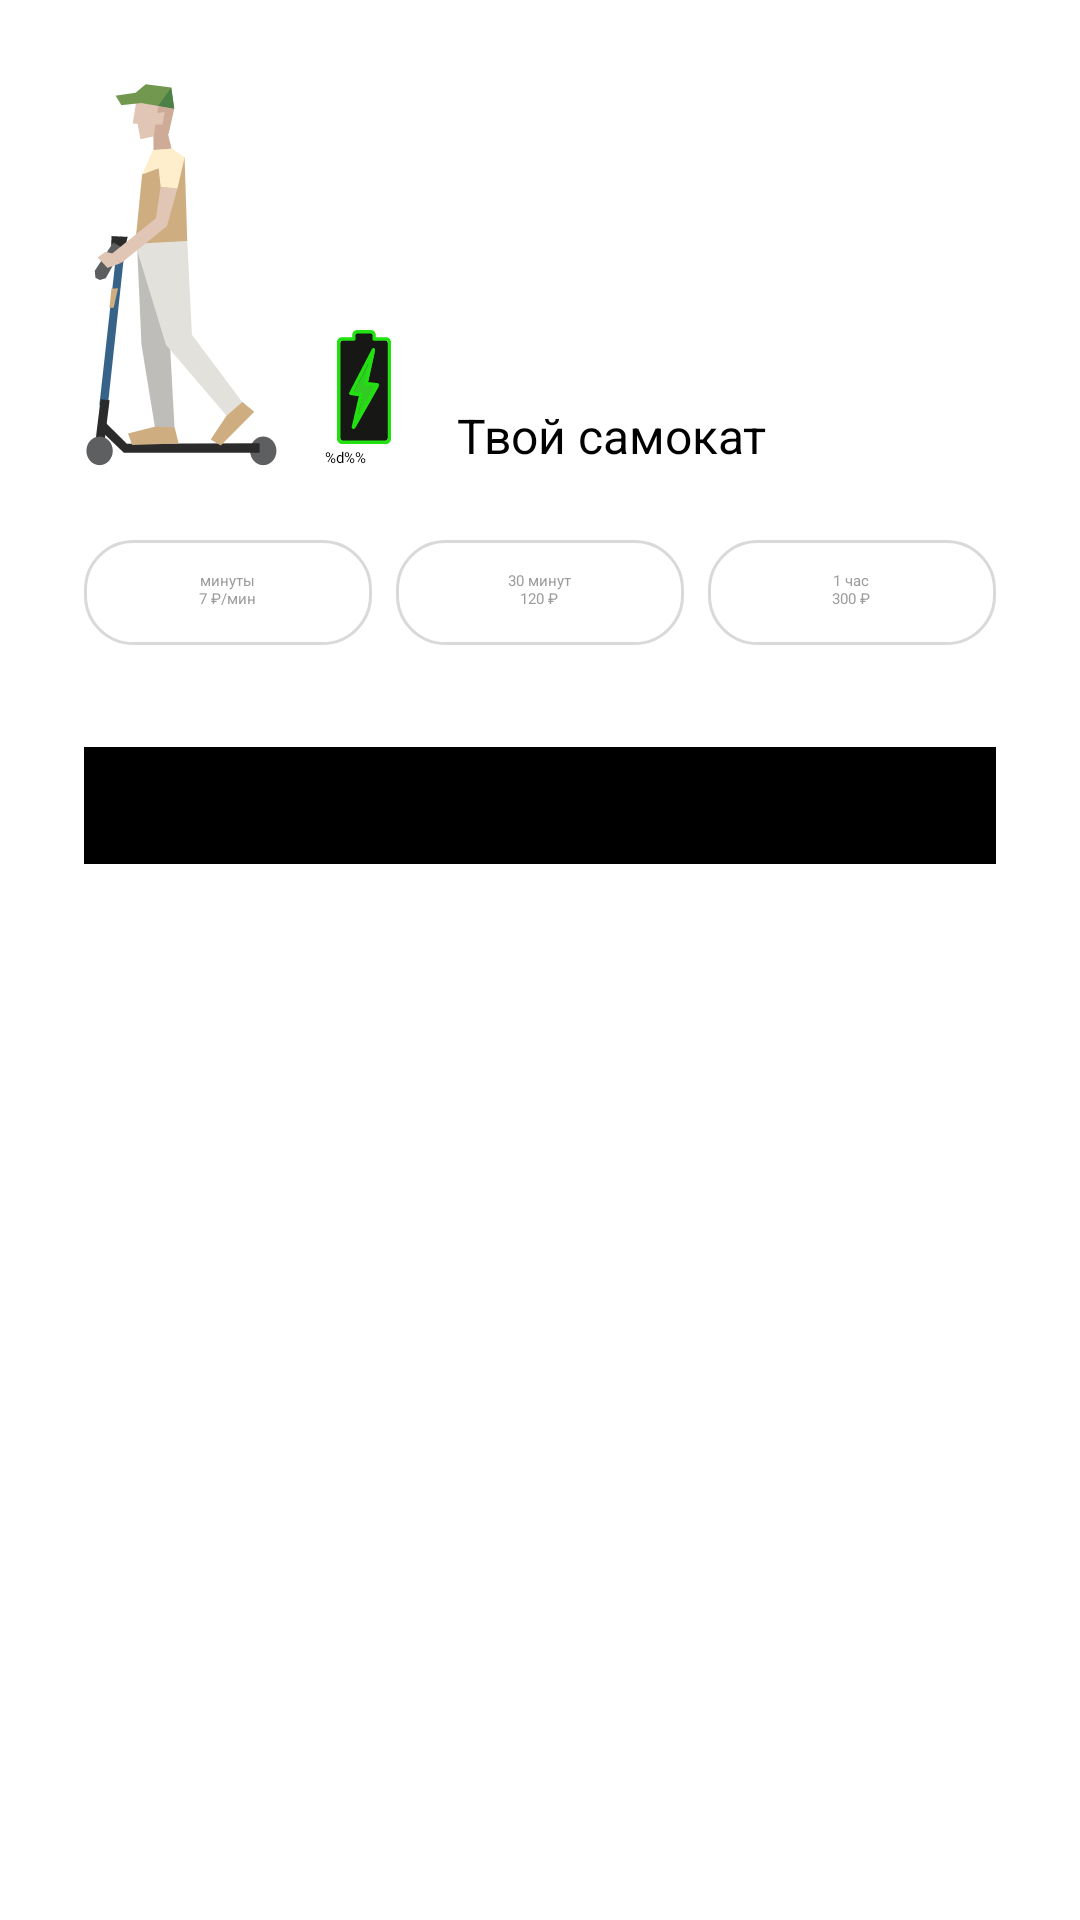

Icons on this 1080*1920 Android screen, each with the point to tap as (x=x, y=y):
charged bs: (x=364, y=387)
